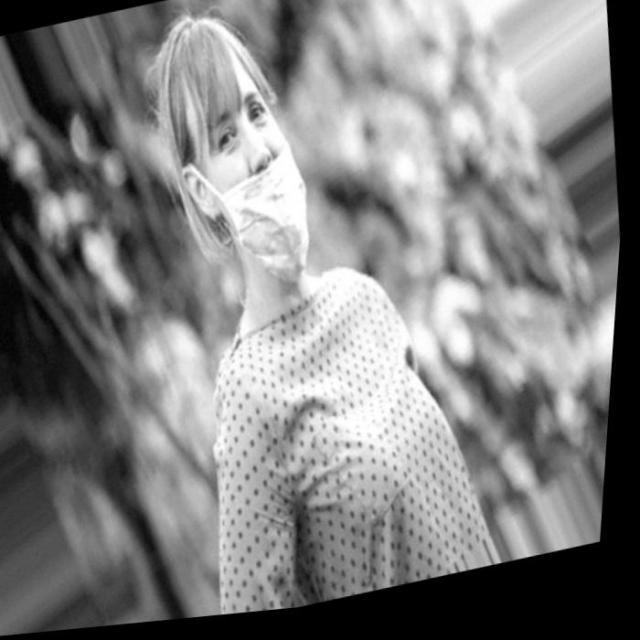hairnet: (206, 82, 327, 304)
